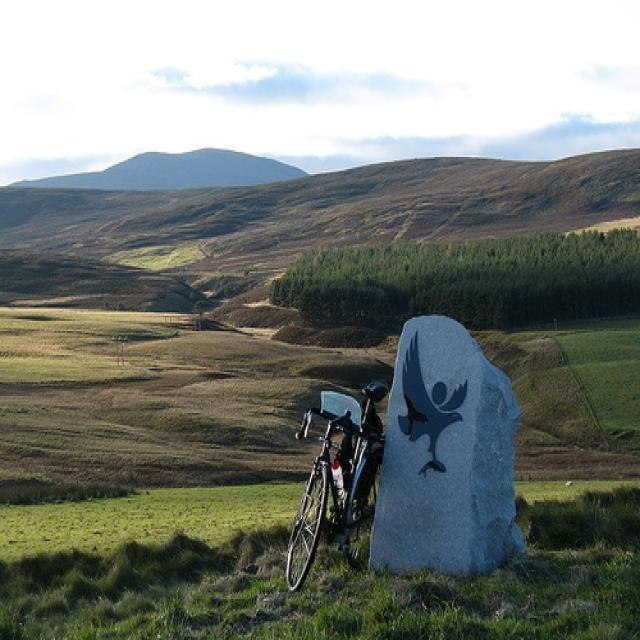bicycle: (283, 374, 381, 590)
